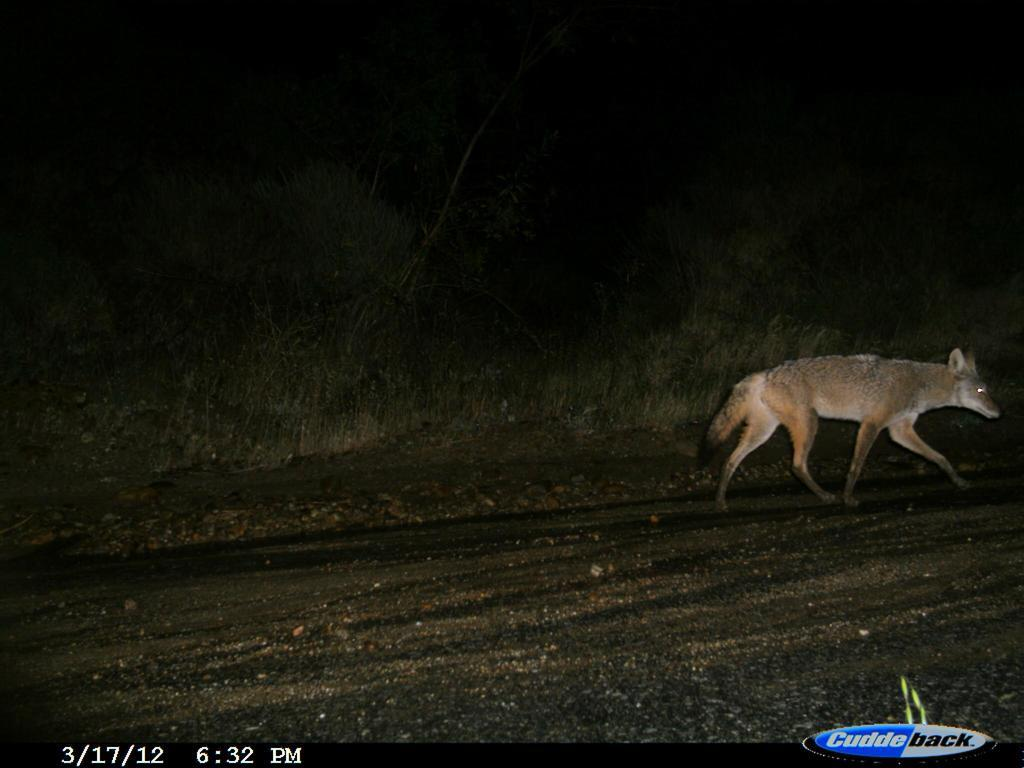coyote: (693, 345, 1003, 518)
